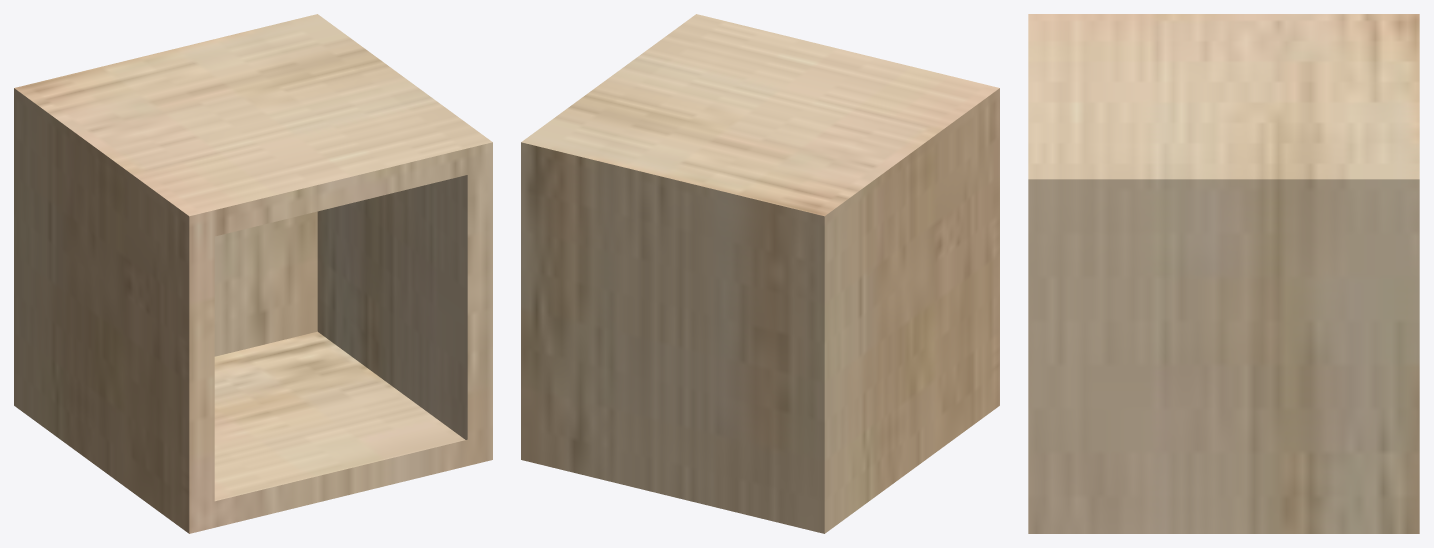
File: rak.glb
The picture shows the model from 3 angles, left to right: view 1: azimuth 30°, elevation 25°; view 2: azimuth 150°, elevation 25°; view 3: azimuth 270°, elevation 25°; orthographic projection. The views are drawn at different scales.
Parts seen in each view (by area): view 1: Cube; view 2: Cube; view 3: Cube.
Part boxes in pixels (x1,y1,x2,y2): Cube: (14,14,492,533); Cube: (521,14,999,533); Cube: (1028,14,1419,533).
Size of the model in its own units: 2 by 2 by 2.
1 material, 1 textured.
